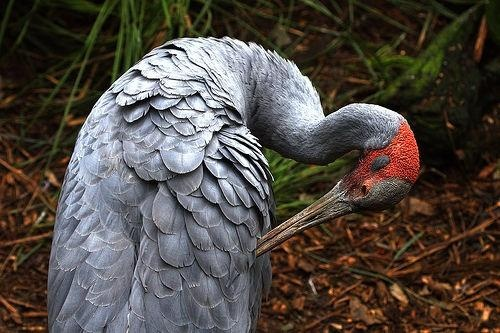bird: (44, 35, 422, 333)
